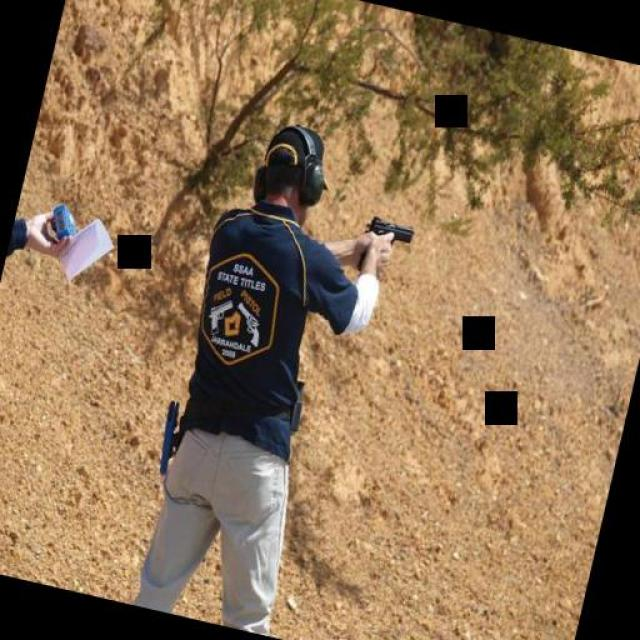gun: (354, 211, 418, 284)
